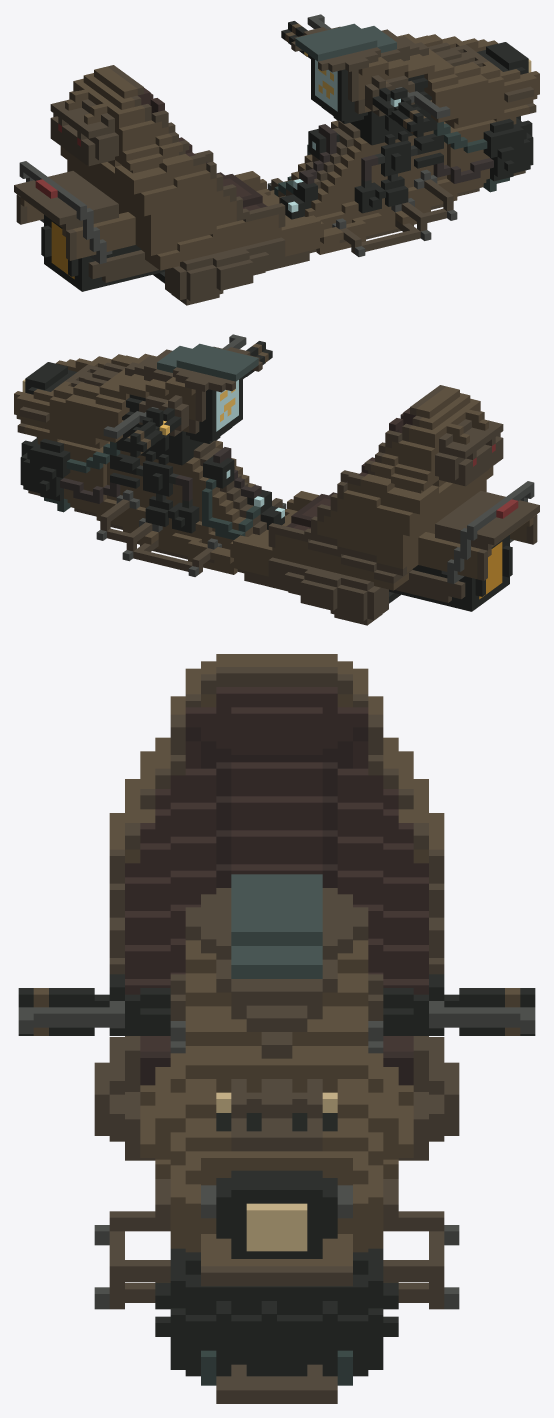
Rendered from Scooter.glb.
The picture shows the model from 3 angles, top to bottom: view 1: azimuth 30°, elevation 25°; view 2: azimuth 150°, elevation 25°; view 3: azimuth 270°, elevation 25°; orthographic projection. The views are drawn at different scales.
Parts seen in each view (by area): view 1: Scooter; view 2: Scooter; view 3: Scooter.
Boxes of the visible parts, <box> form: Scooter: <box>14,14,539,305</box>; Scooter: <box>14,334,539,625</box>; Scooter: <box>18,654,535,1403</box>.
Size of the model in its own units: 7.4 by 3.1 by 3.4.
Materials: 1 (1 with a texture image).
